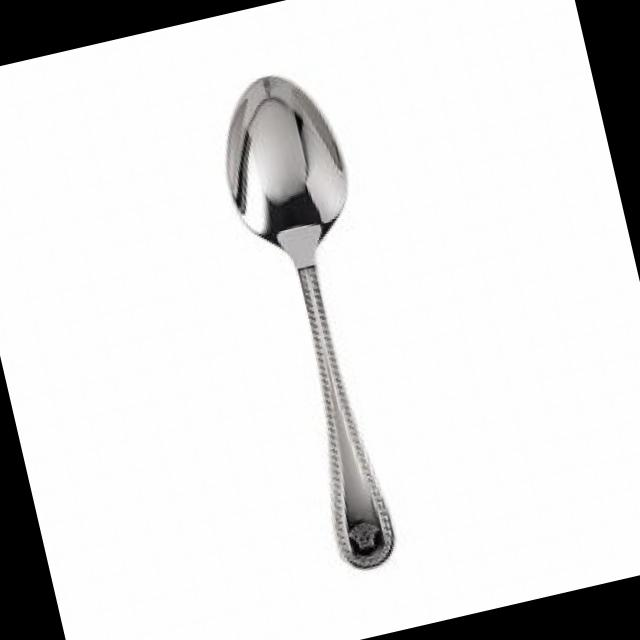spoon: (181, 50, 464, 612)
